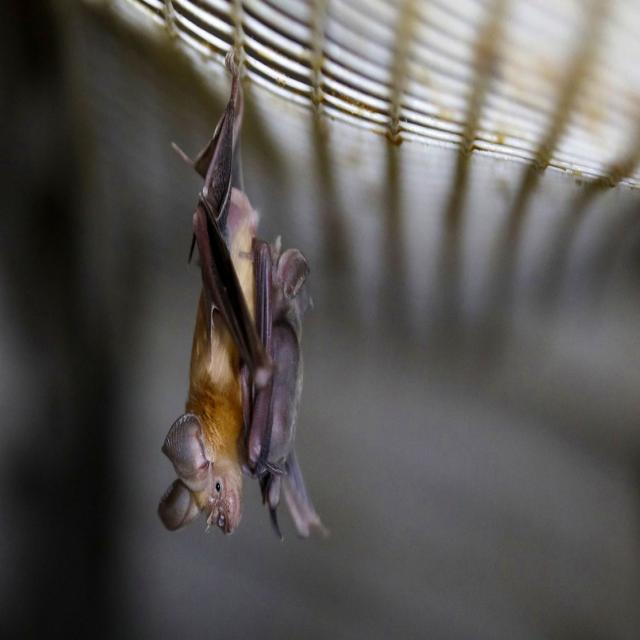bat: (158, 50, 328, 536)
